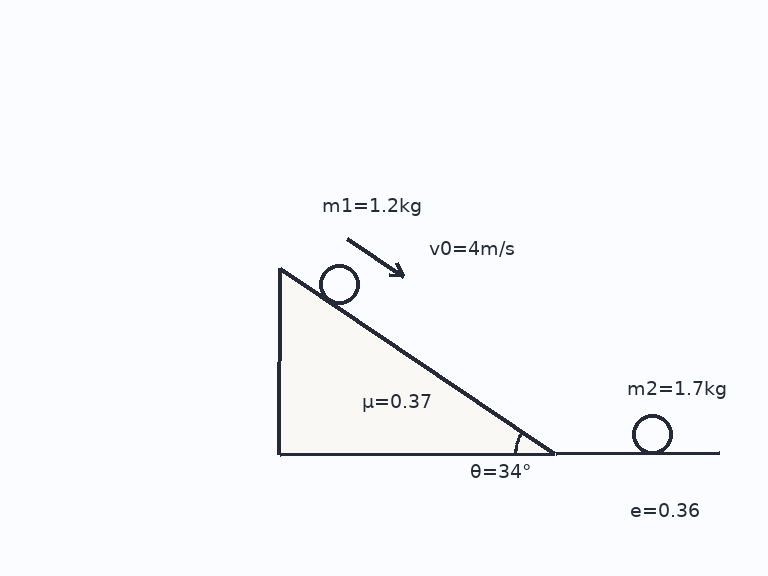ball: (317, 262, 361, 306), (630, 412, 674, 456)
ramp: (278, 266, 557, 456)
